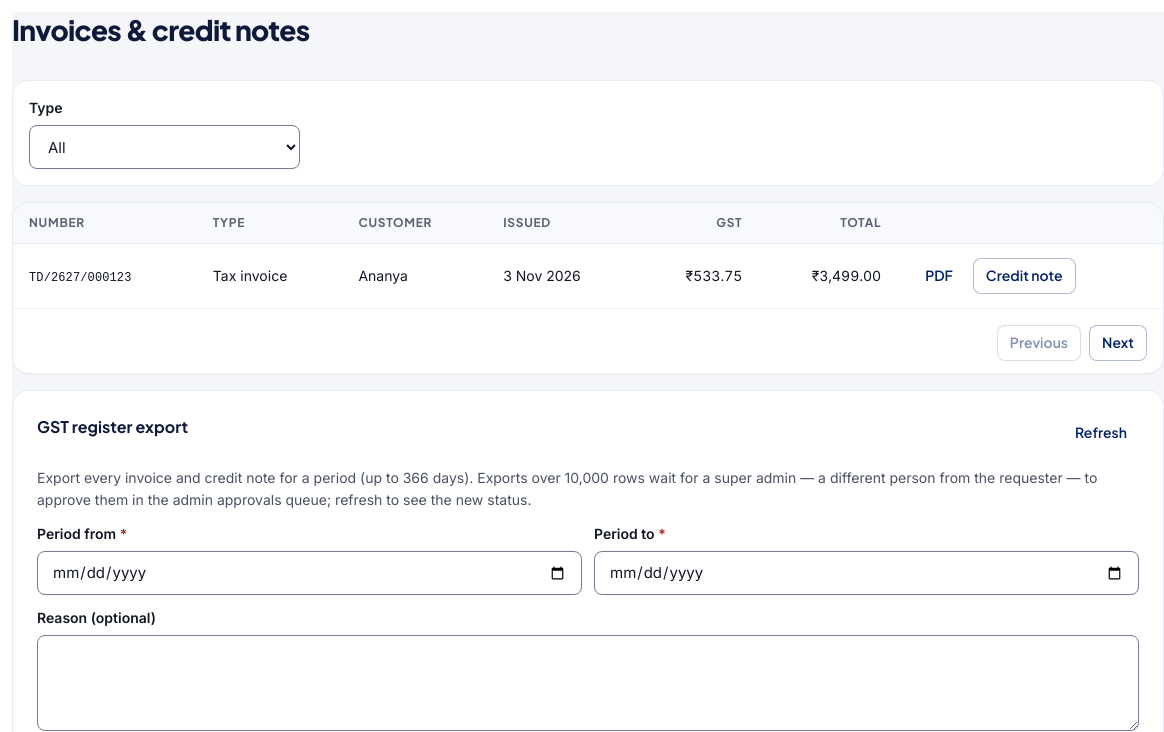
it: Finance paging and server filters (ADM-32) › filters invoices by type on the server and follows the next cursor
Expected: the text "TD/2627/000123" is shown, [29,271,132,285]
Select "Credit notes" in the dropdown labelled "Type". click: [164, 147]
box: [29,125,300,169]
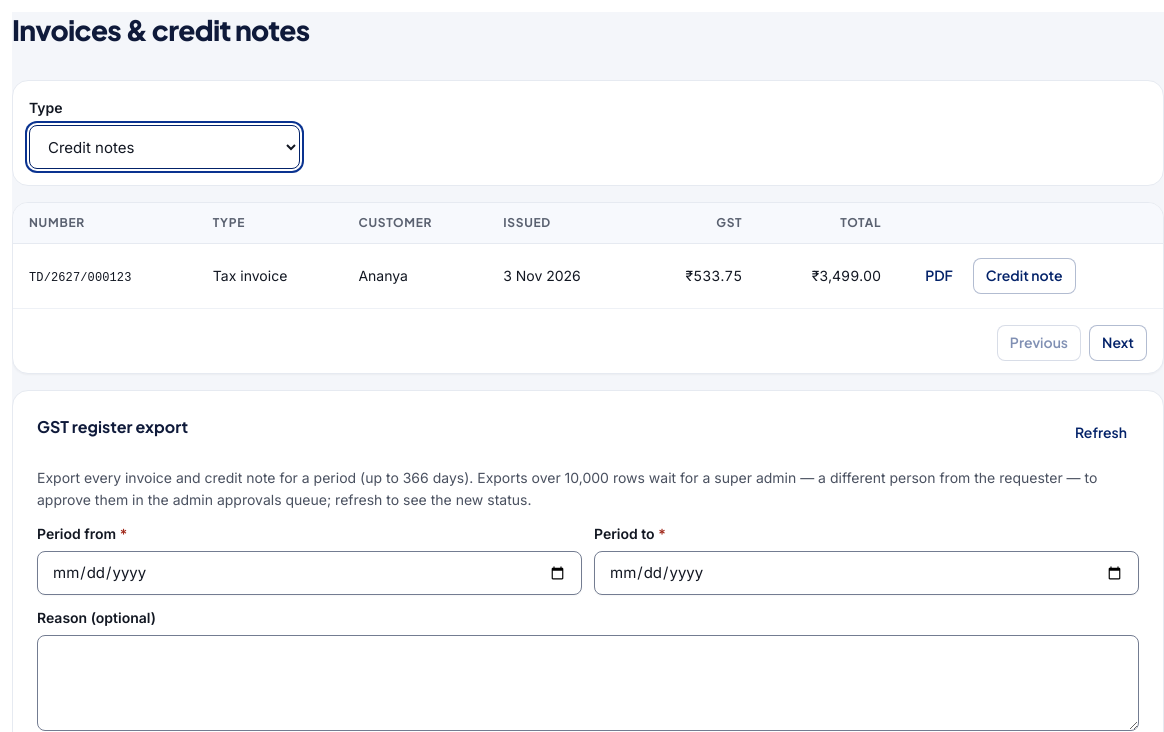
Click the button "Next". click: [1118, 343]
box: [1089,325,1147,361]
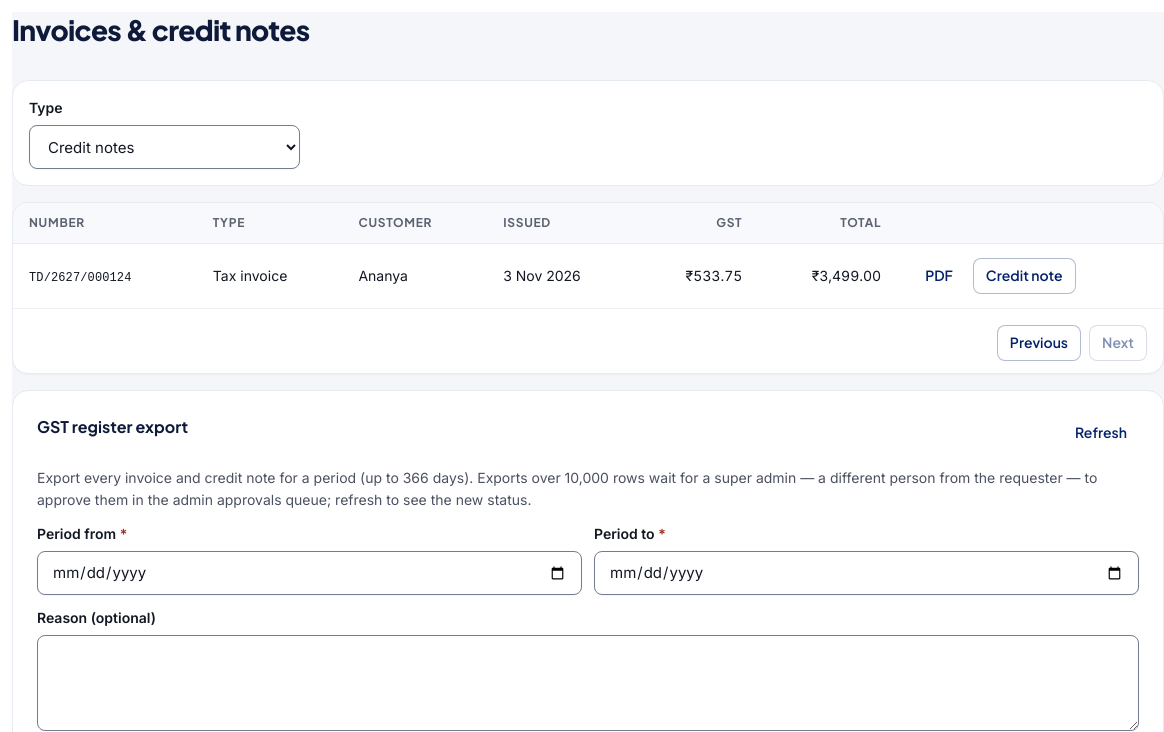
Result: the text "TD/2627/000124" is shown at [29,271,132,285]
